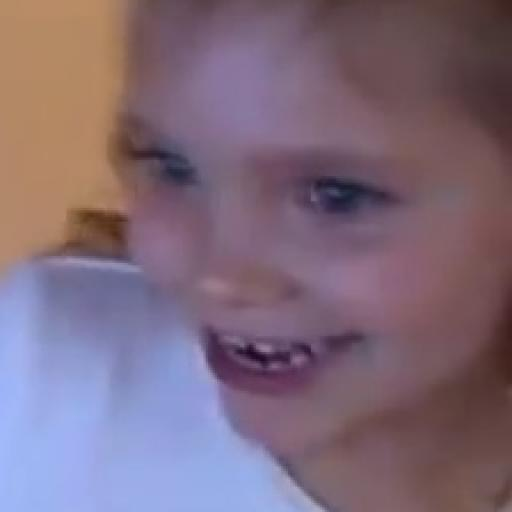Autism: (71, 27, 512, 498)
